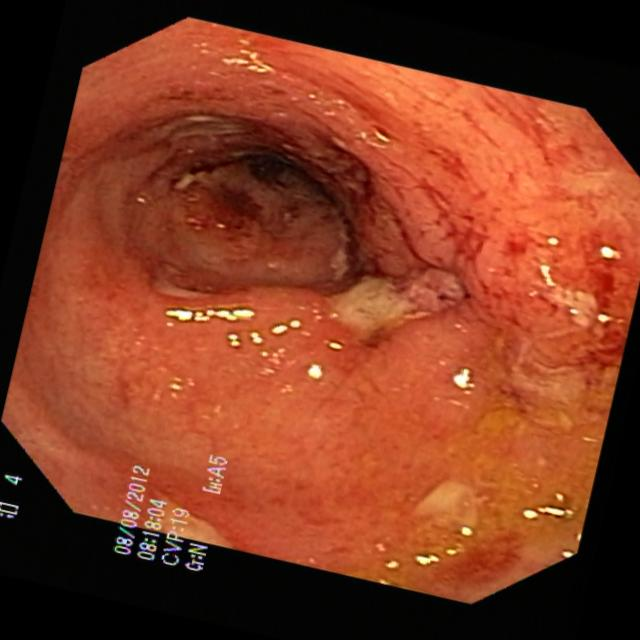ulcerative-colities: (111, 94, 640, 402), (358, 405, 603, 596)
